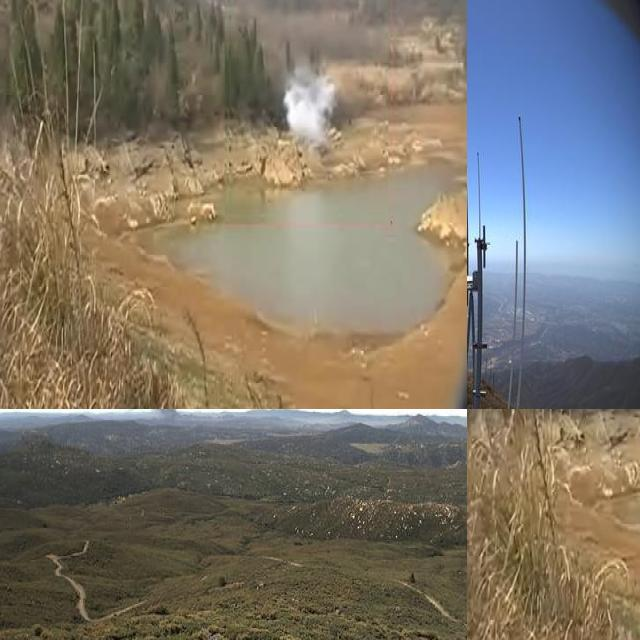smoke: (283, 67, 335, 139), (94, 409, 183, 424)
